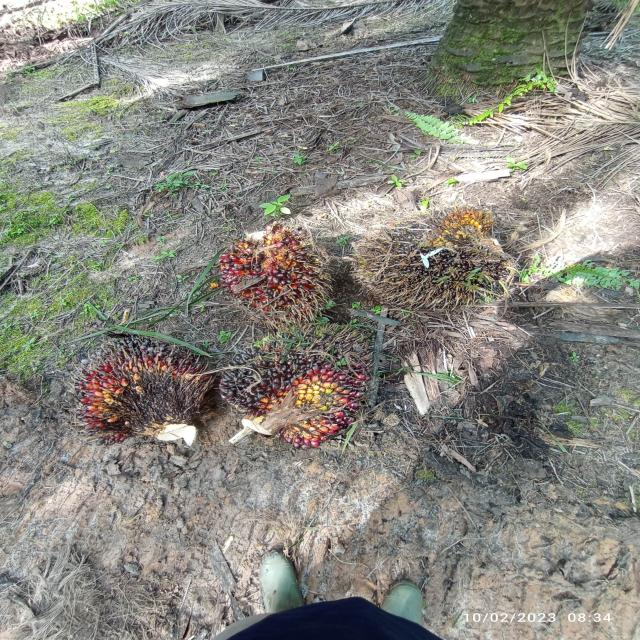fraksi 00: (38, 318, 215, 464), (225, 316, 379, 450), (336, 206, 526, 305)
fraksi 1: (211, 231, 337, 325)
